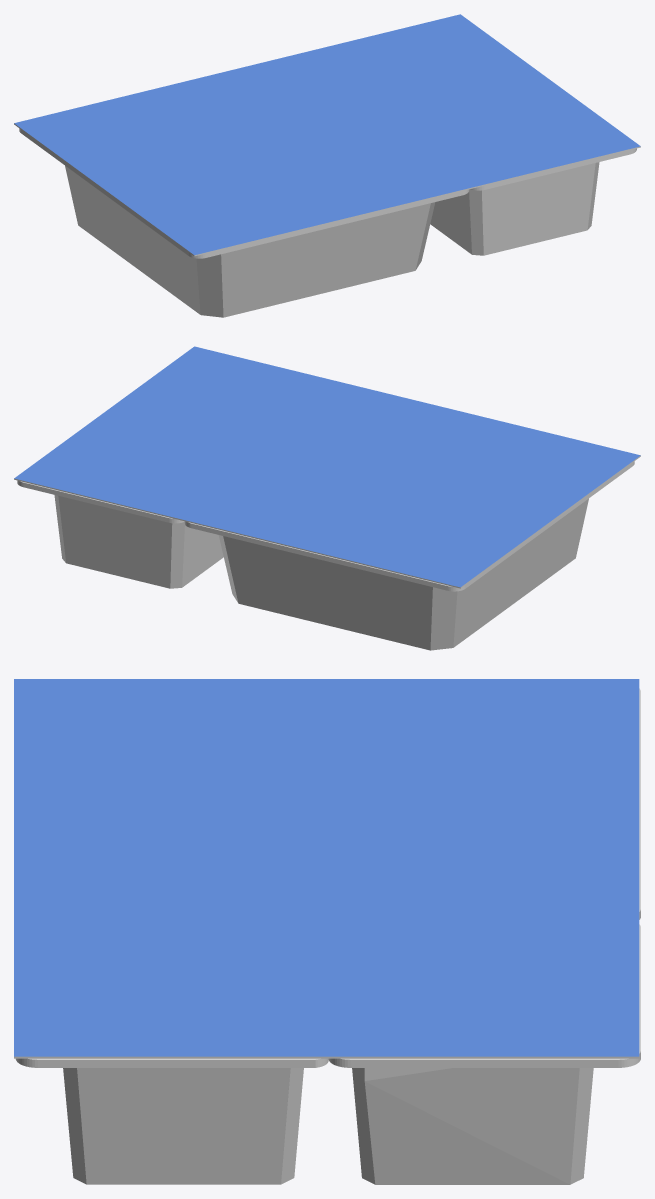
File: Lunchbox.glb
3 renders of one model, top to bottom at view 1: azimuth 30°, elevation 25°; view 2: azimuth 150°, elevation 25°; view 3: azimuth 270°, elevation 25°, orthographic. The views are drawn at different scales.
Visible parts, largest first — view 1: _(Loose Entity); view 2: _(Loose Entity); view 3: _(Loose Entity).
Boxes of the visible parts, bbox=[...] form: _(Loose Entity): bbox=[14, 14, 640, 317]; _(Loose Entity): bbox=[14, 346, 640, 650]; _(Loose Entity): bbox=[14, 679, 640, 1184].
Size of the model in its own units: 0.2006 by 0.0386 by 0.1404.
